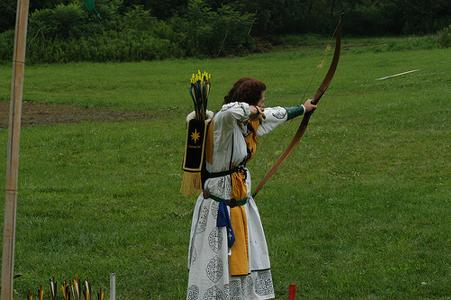person: (182, 75, 317, 297)
